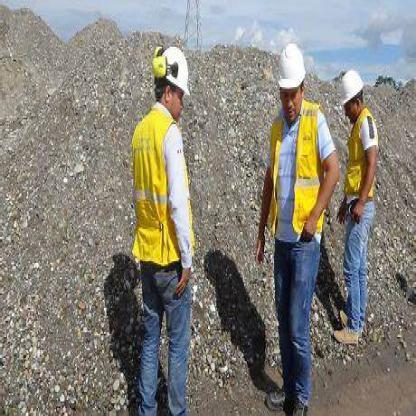person: (120, 20, 222, 414), (258, 26, 323, 414), (332, 57, 383, 372)
